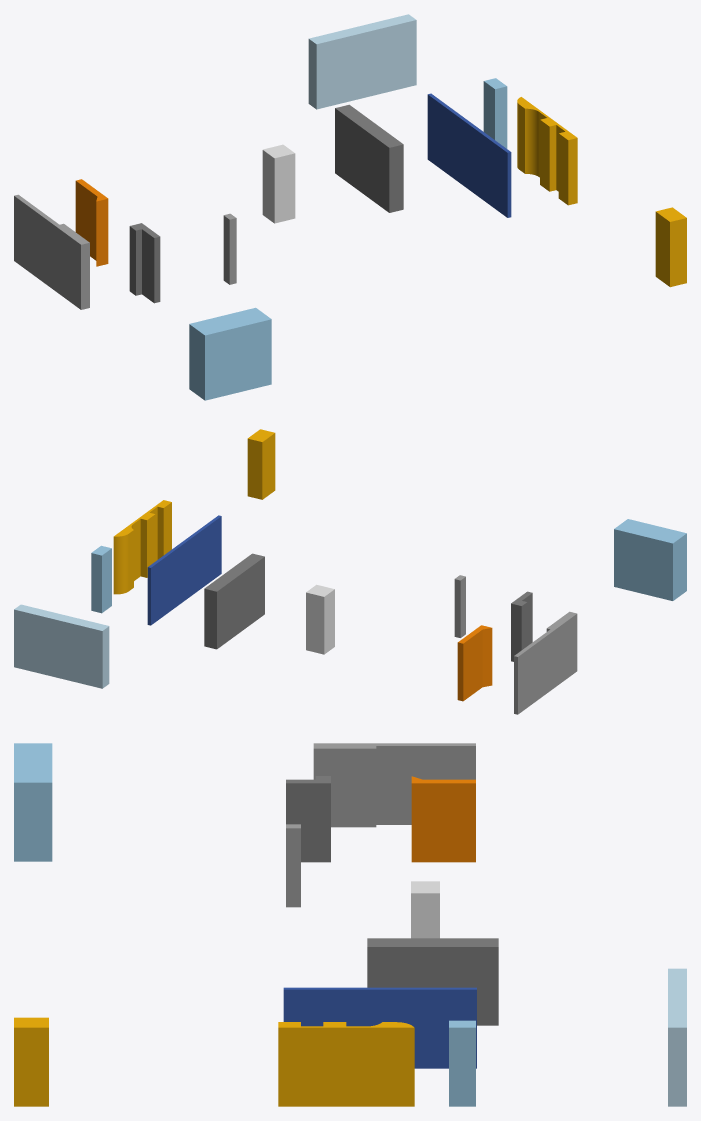
The model's file is NewObstaclesTaller.dae.
3 renders of one model, top to bottom at view 1: azimuth 30°, elevation 25°; view 2: azimuth 150°, elevation 25°; view 3: azimuth 270°, elevation 25°, orthographic. The views are drawn at different scales.
Visible parts, largest first — view 1: Part 13, Part 9, Part 11, Part 10, Part 7, Part 16, Part 12, Part 8, Part 15, Part 14, Part 17, Part 18; view 2: Part 13, Part 9, Part 11, Part 7, Part 10, Part 16, Part 14, Part 12, Part 8, Part 17, Part 15, Part 18; view 3: Part 16, Part 10, Part 11, Part 7, Part 14, Part 9, Part 15, Part 8, Part 13, Part 17, Part 12, Part 18.
Part boxes in pixels (x1,y1,x2,y2): Part 13: (308,14,416,109); Part 9: (189,307,271,400); Part 11: (427,93,511,217); Part 10: (14,194,89,309); Part 7: (335,104,403,212); Part 16: (517,97,577,205); Part 12: (262,144,295,223); Part 8: (655,207,686,287); Part 15: (129,223,160,303); Part 14: (75,179,108,266); Part 17: (483,78,507,148); Part 18: (223,213,236,284); Part 13: (14,604,109,688); Part 9: (614,519,686,600); Part 11: (147,515,221,625); Part 7: (204,553,264,649); Part 10: (514,611,577,714); Part 16: (113,500,171,594); Part 14: (457,625,492,701); Part 12: (306,584,334,654); Part 8: (247,429,275,499); Part 17: (91,545,111,613); Part 15: (511,591,532,661); Part 18: (454,575,465,637); Part 16: (278,1022,414,1106); Part 10: (313,743,475,827); Part 11: (283,987,476,1068); Part 7: (367,938,498,1025); Part 14: (411,776,475,862); Part 9: (14,743,52,861); Part 15: (286,776,330,862); Part 8: (14,1017,48,1106); Part 13: (668,968,686,1106); Part 17: (449,1020,475,1106); Part 12: (411,881,439,938); Part 18: (286,824,300,907).
Size of the model in its own units: 34.8 by 34.8 by 4.5.
